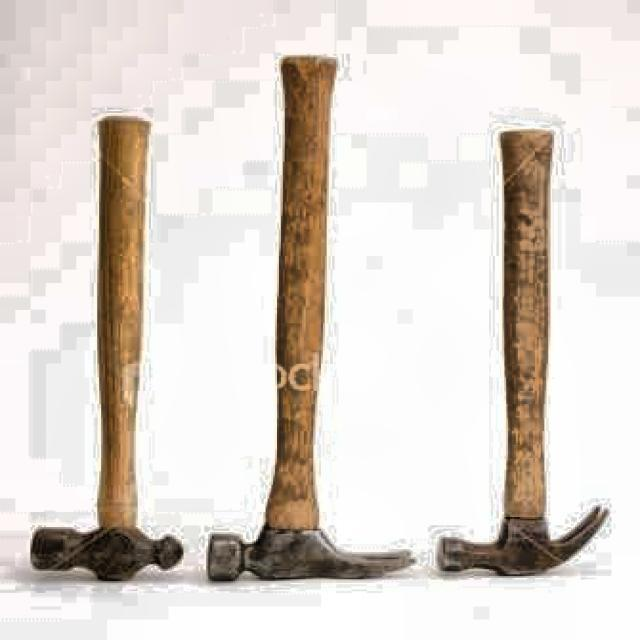hammer: (208, 53, 416, 583), (438, 128, 610, 576), (31, 109, 183, 583)
